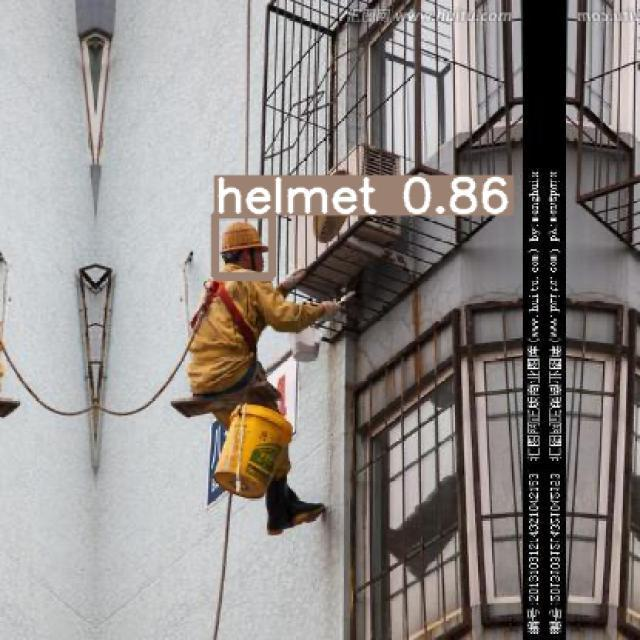yellow helmet: (215, 213, 275, 264)
